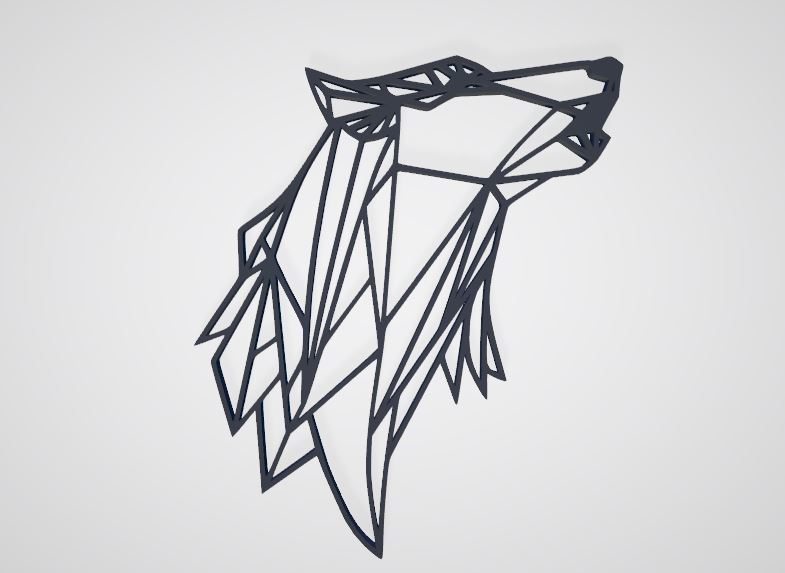Lobo: (188, 27, 633, 538)
